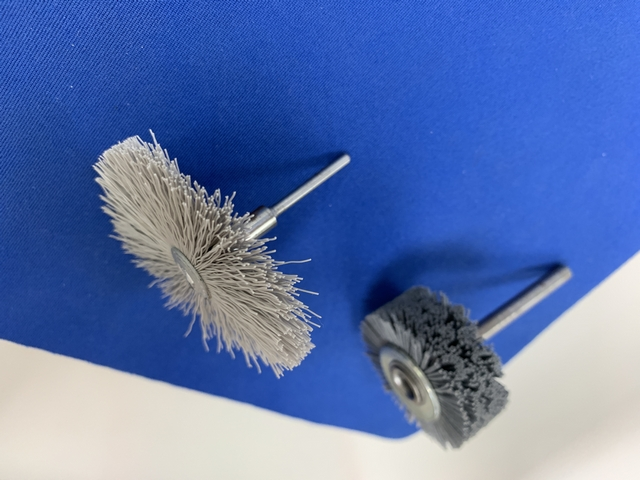TOOL: (88, 124, 338, 381)
Wheel Brush: (354, 249, 587, 452)
